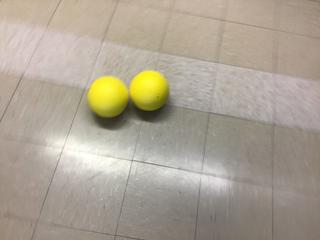power_cell: (87, 76, 130, 120), (130, 70, 170, 113)
